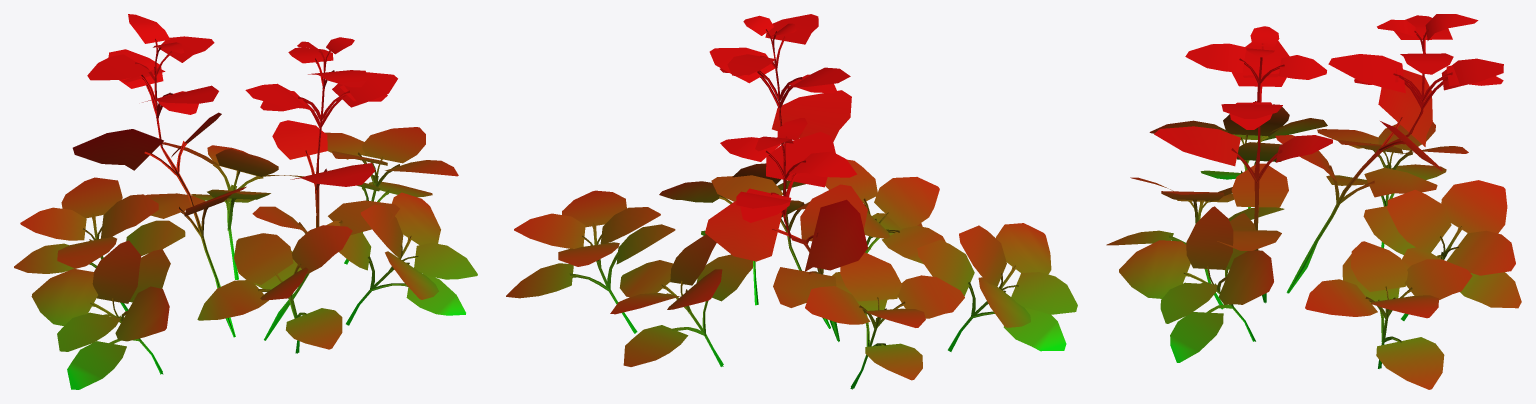
Rendered from Yellow Archangel_LOD1_Var5_wcwmcfvia.fbx.
3 views of the same model, side by side, from view 1: azimuth 30°, elevation 25°; view 2: azimuth 150°, elevation 25°; view 3: azimuth 270°, elevation 25° (orthographic). The views are drawn at different scales.
Parts seen in each view (by area): view 1: _kyah_Var5_LOD1; view 2: _kyah_Var5_LOD1; view 3: _kyah_Var5_LOD1.
Boxes of the visible parts, x1,y1,x2,y2 form: _kyah_Var5_LOD1: [14, 14, 477, 389]; _kyah_Var5_LOD1: [506, 14, 1077, 389]; _kyah_Var5_LOD1: [1106, 14, 1521, 389].
Size of the model in its own units: 12.88 by 7.65 by 9.73.
